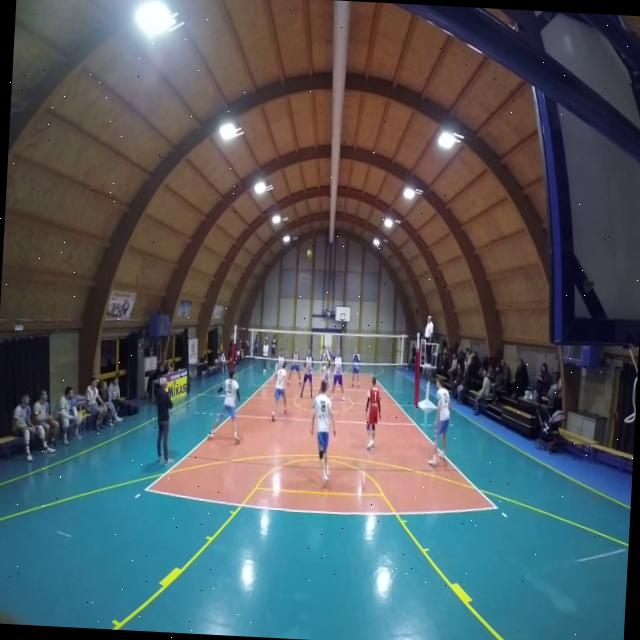Volleyball: (307, 250, 312, 258)
